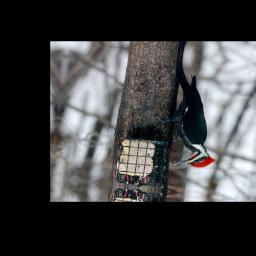Woodpecker: (148, 55, 228, 172)
